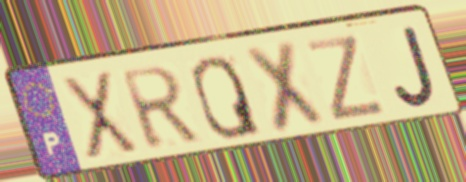J: (390, 22, 440, 110)
Q: (188, 53, 265, 142)
R: (116, 63, 204, 154)
X: (240, 37, 330, 138), (57, 68, 145, 162)
Z: (302, 31, 391, 124)
